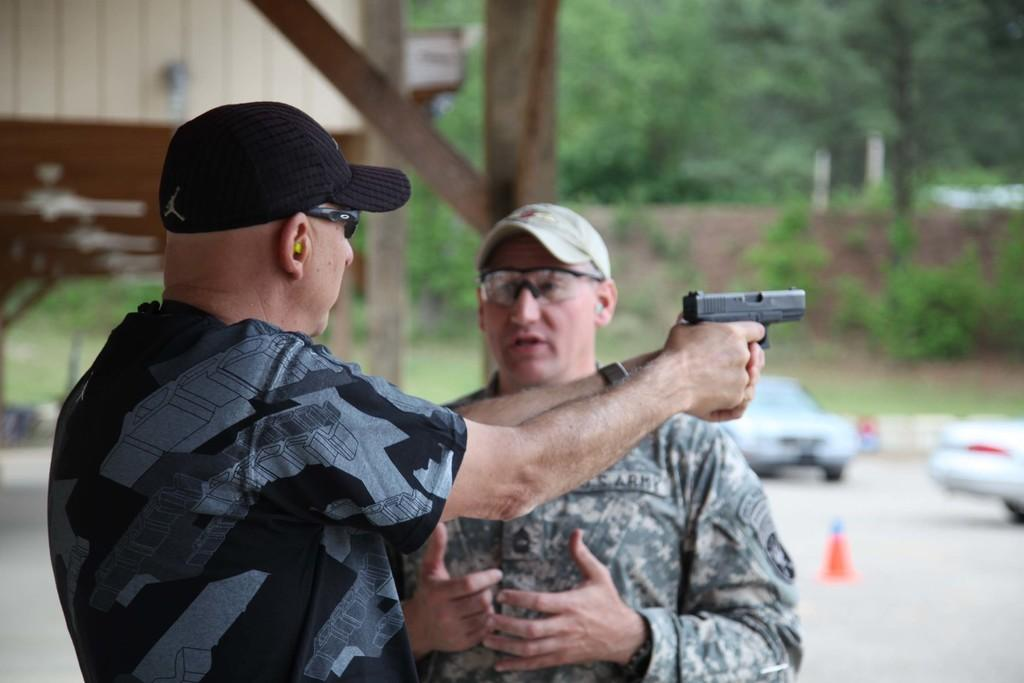non-violence: (46, 102, 801, 683)
weapon: (684, 286, 815, 349)
